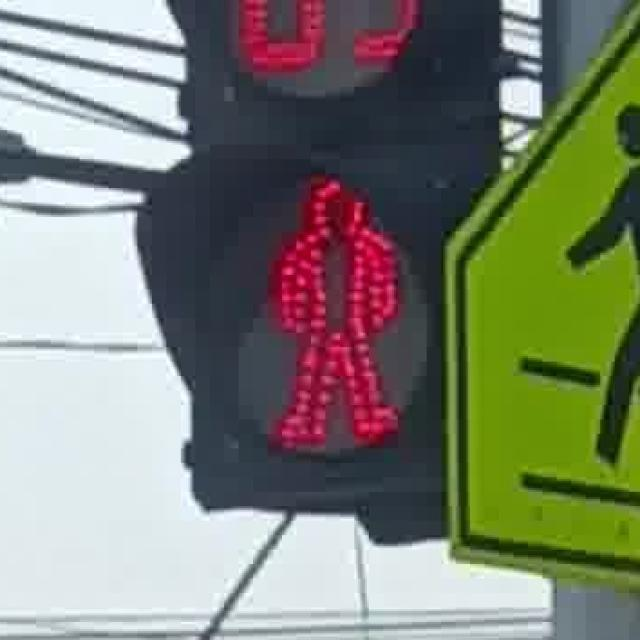red_light: (240, 163, 420, 463)
